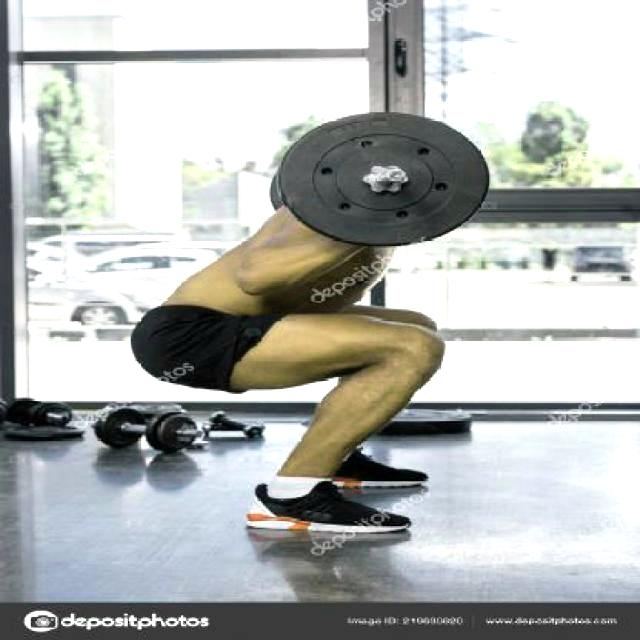barbell: (277, 106, 497, 248)
